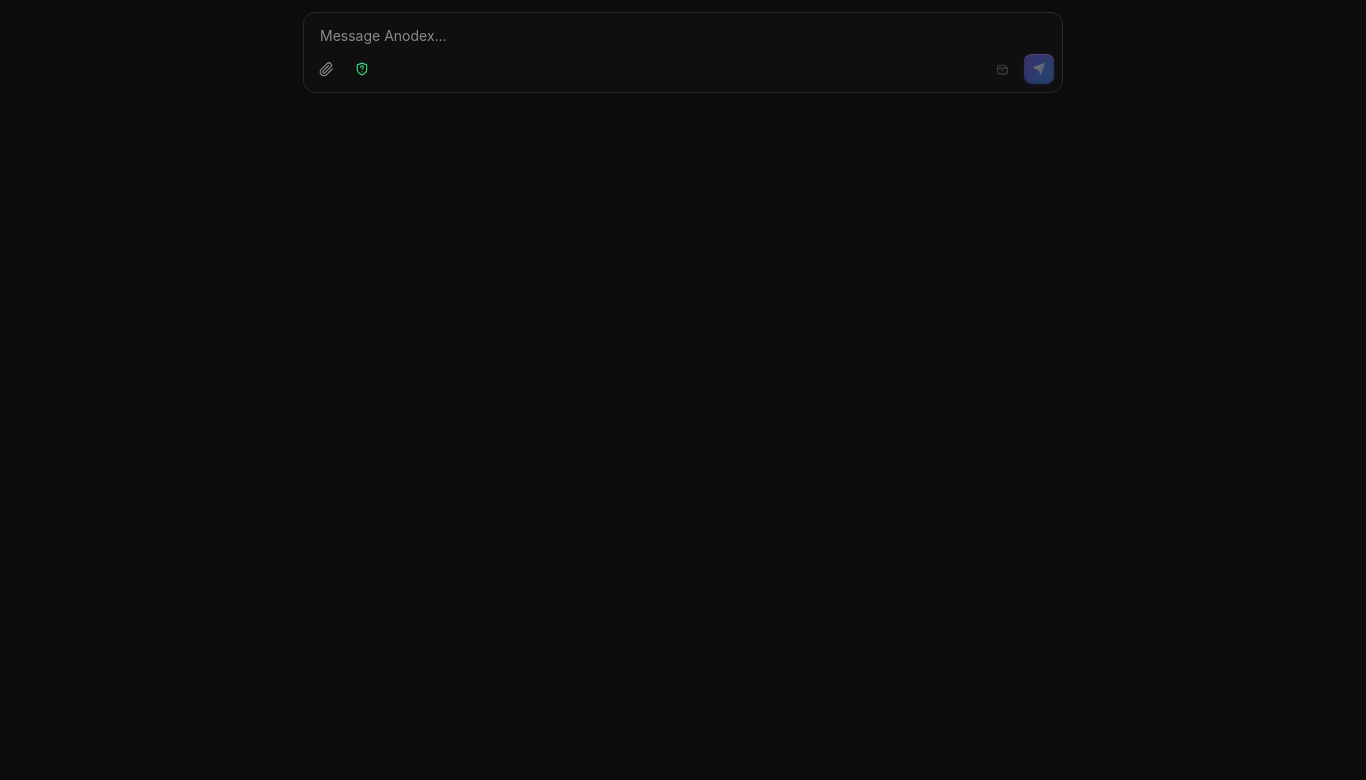
it: composer chrome › dismisses the slash picker when the user clicks away without clearing the draft
Type "/" into the text box.
click(683, 32); type("/")  # box left=304, top=13, right=1062, bottom=50
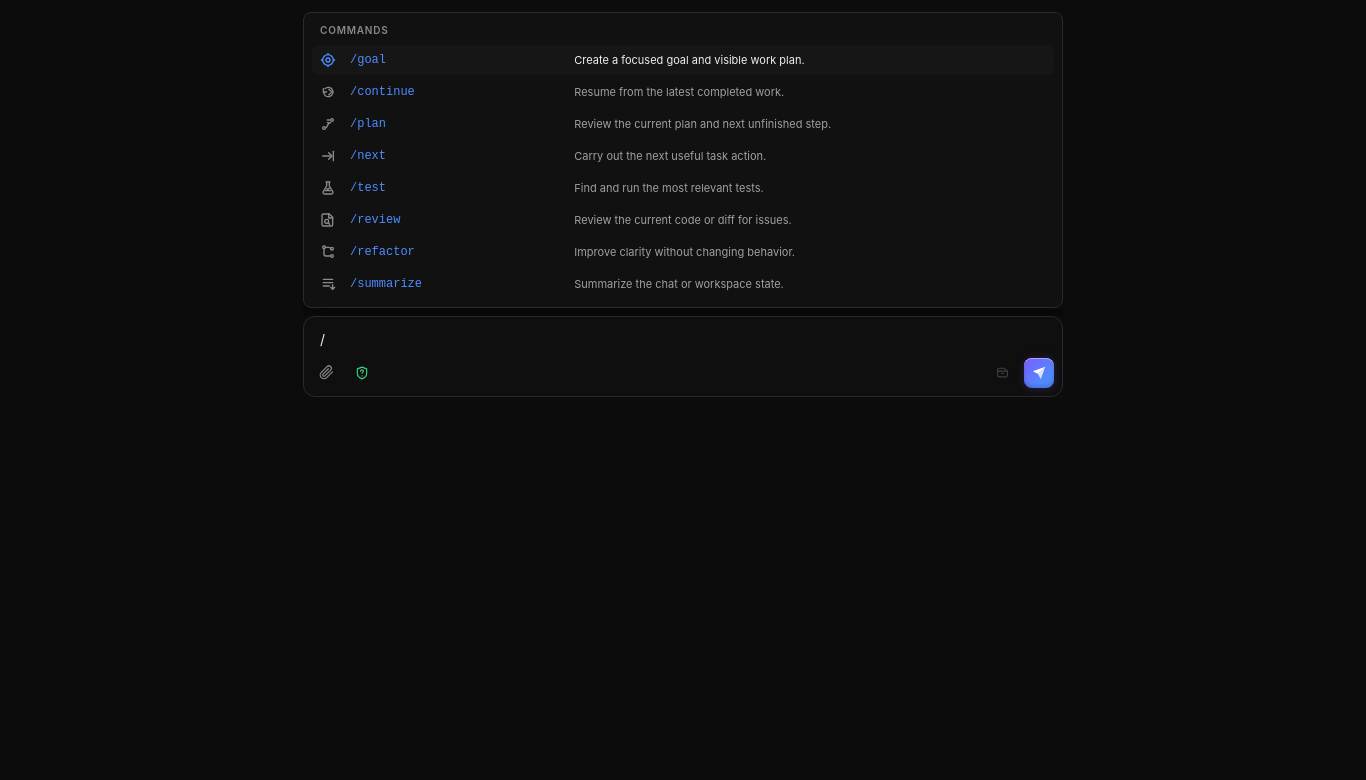
Check: the list is shown, box left=303, top=12, right=1063, bottom=308
Press the mouse on the element that starts with "Commands" at (683, 396), box left=0, top=12, right=1365, bottom=779
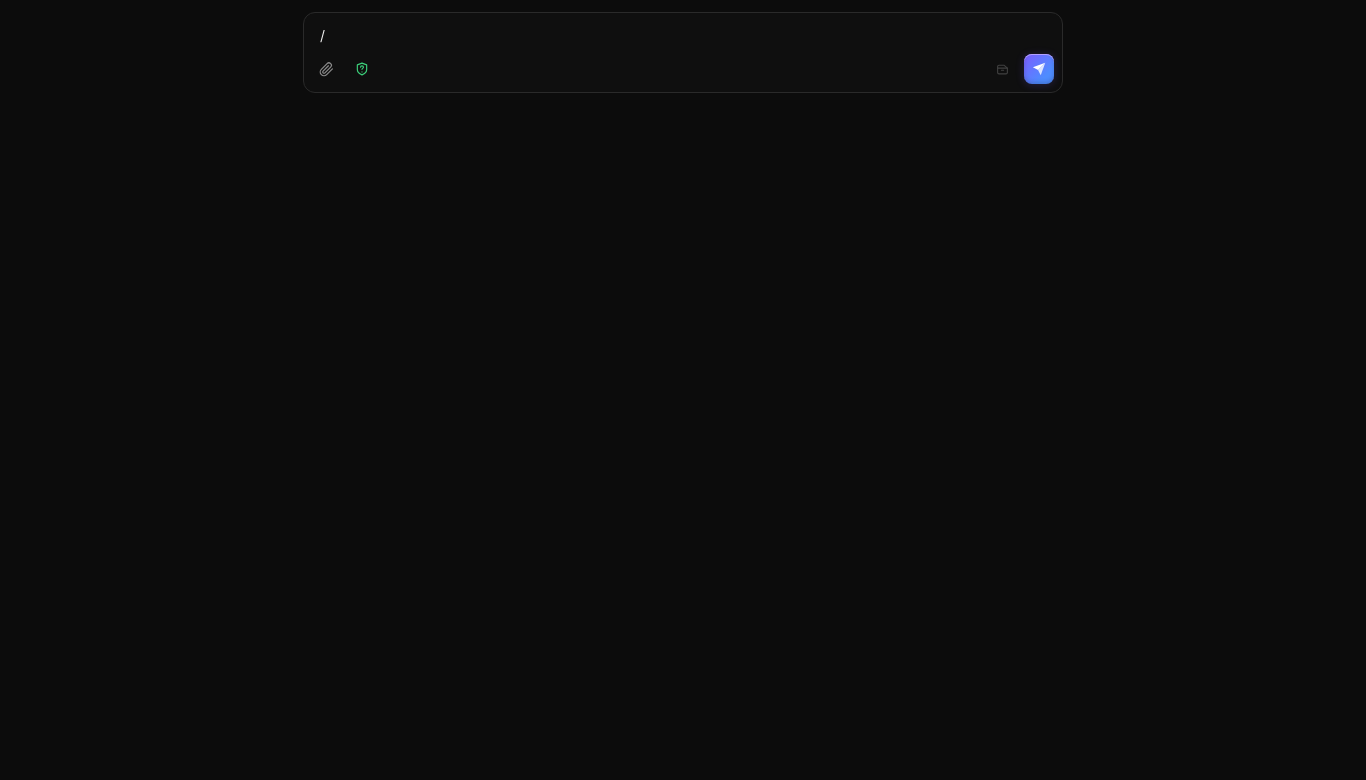
Check: the list is gone
